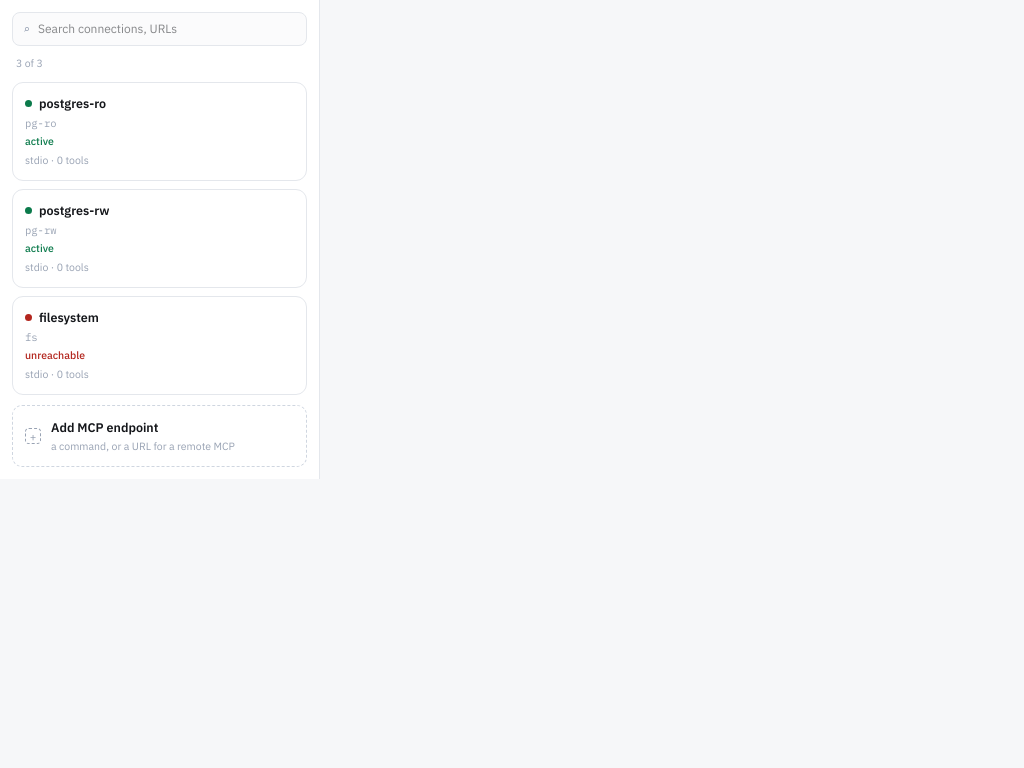
Test: EndpointList › opens the add-endpoint dialog centered, not inline, and closes it after a successful add
This screenshot has width=1024, height=768.
Click the button "+ Add MCP endpoint a command, or a URL for a remote MCP".
click(160, 436)  # box [12, 405, 307, 467]
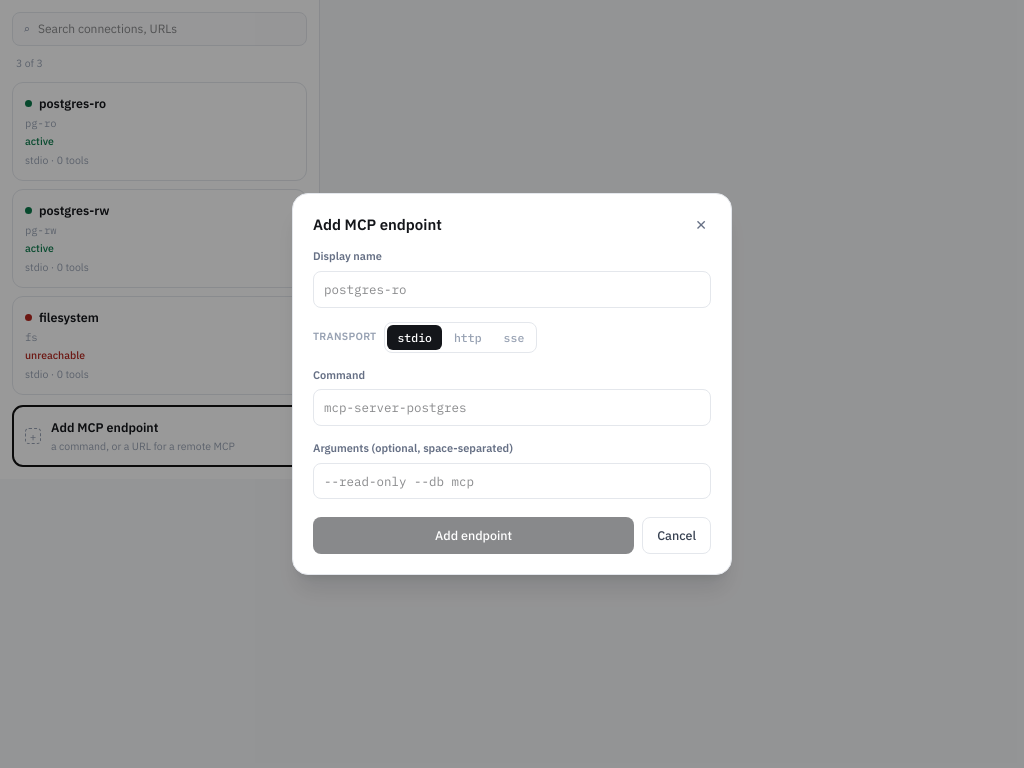
Now the dialog "Add MCP endpoint" is shown, box [292, 193, 732, 575]
Type "new-mcp" into the field labelled "Display name".
click(512, 289); type("new-mcp")  # box [313, 271, 711, 308]
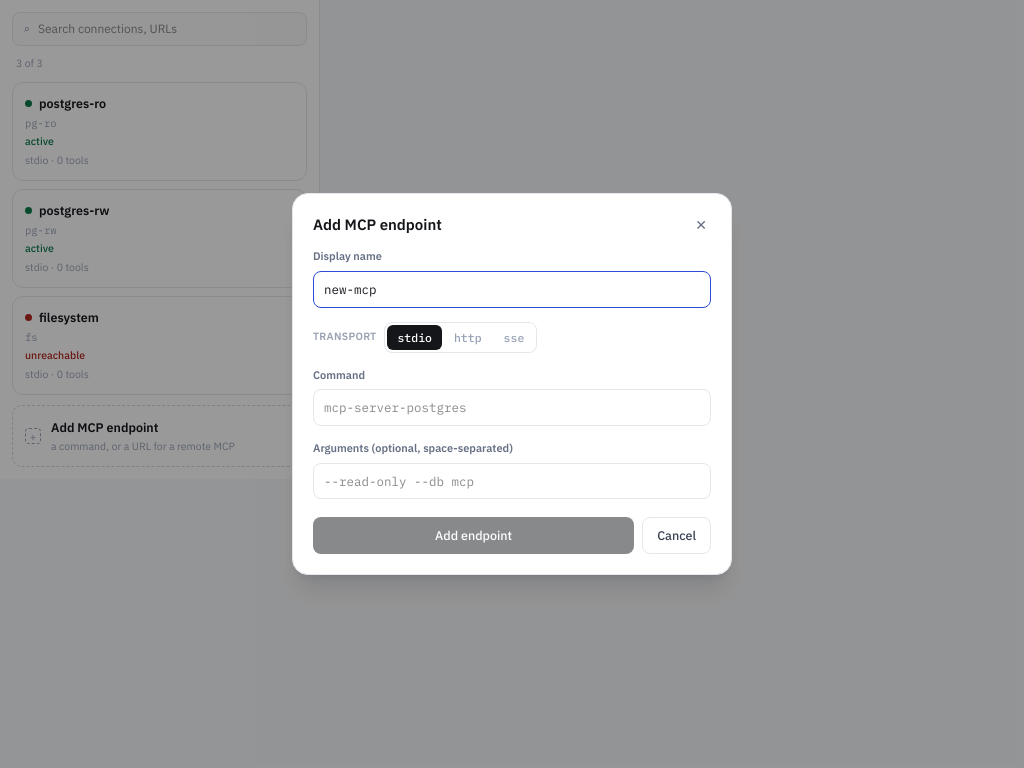
Type "mcp-server-new" into the field labelled "Command".
click(512, 408); type("mcp-server-new")  # box [313, 389, 711, 426]
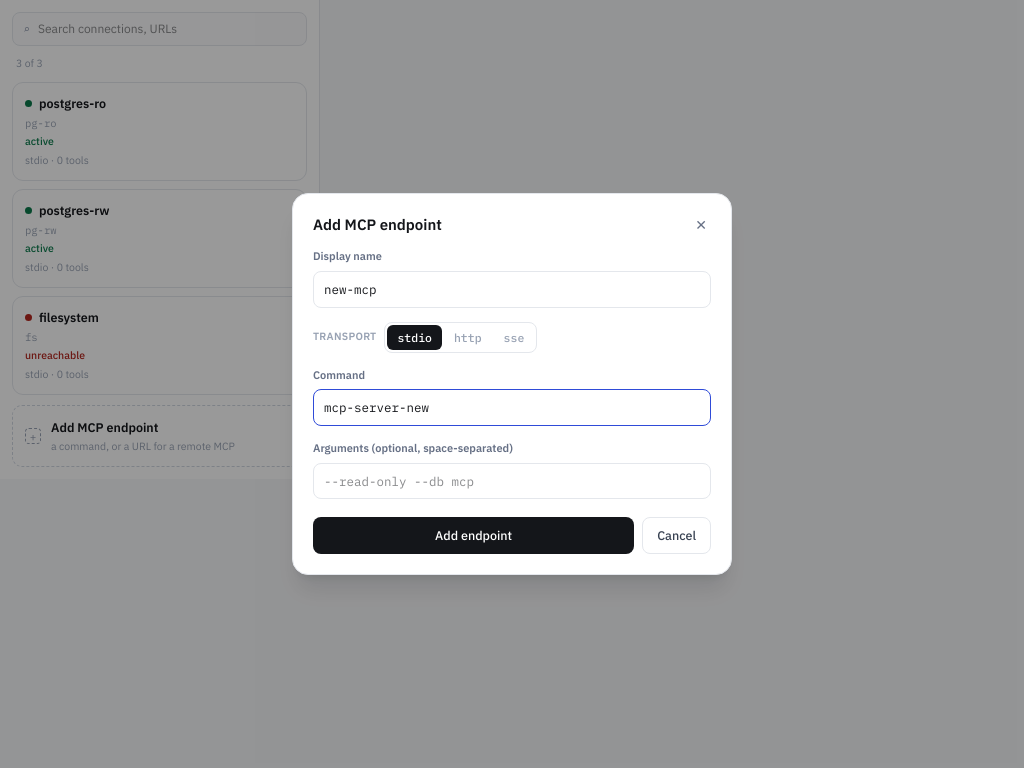
Click the button "Add endpoint".
click(474, 536)  # box [313, 517, 634, 554]
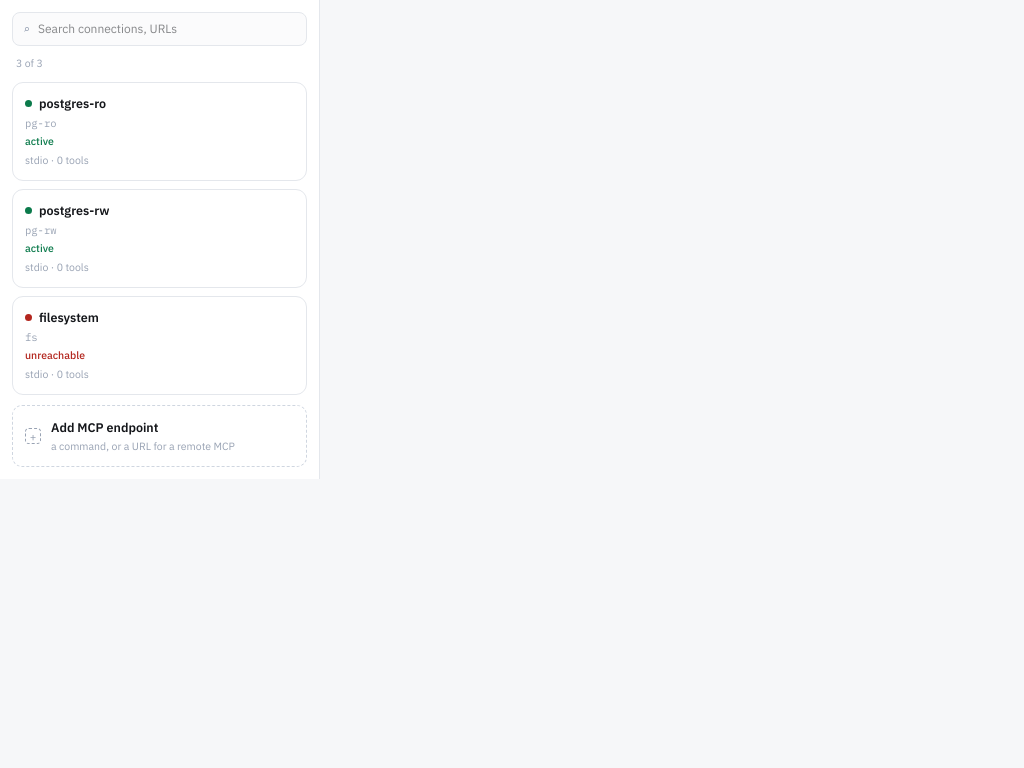
Now the dialog is gone
